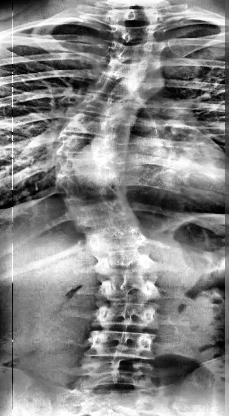Vertebrae: (50, 158, 132, 190), (52, 178, 128, 210), (79, 330, 159, 358), (66, 202, 140, 231), (48, 138, 124, 166), (101, 280, 167, 312), (90, 304, 164, 332), (58, 114, 132, 142), (82, 72, 150, 102), (70, 94, 140, 122), (85, 227, 153, 255), (97, 252, 158, 283), (94, 58, 156, 87), (99, 38, 156, 66), (99, 22, 158, 46)
